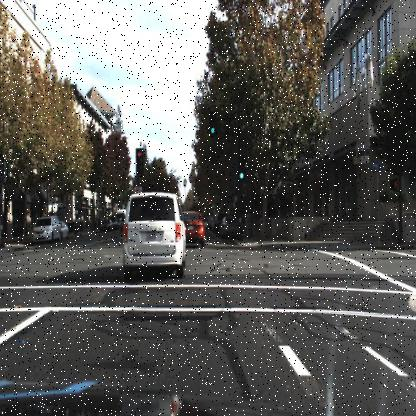car: (120, 184, 189, 286), (171, 196, 208, 263), (30, 212, 61, 243), (219, 217, 240, 239), (100, 218, 114, 234), (60, 218, 70, 239)
trafficLight: (238, 155, 245, 181)
trafficLight-Green: (209, 109, 218, 137)
trafficLight-RedLeft: (134, 146, 144, 175)
